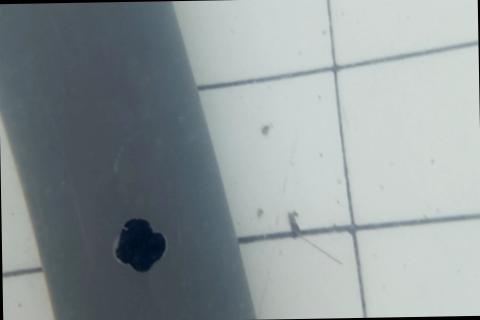kebocoran: (109, 214, 169, 276)
